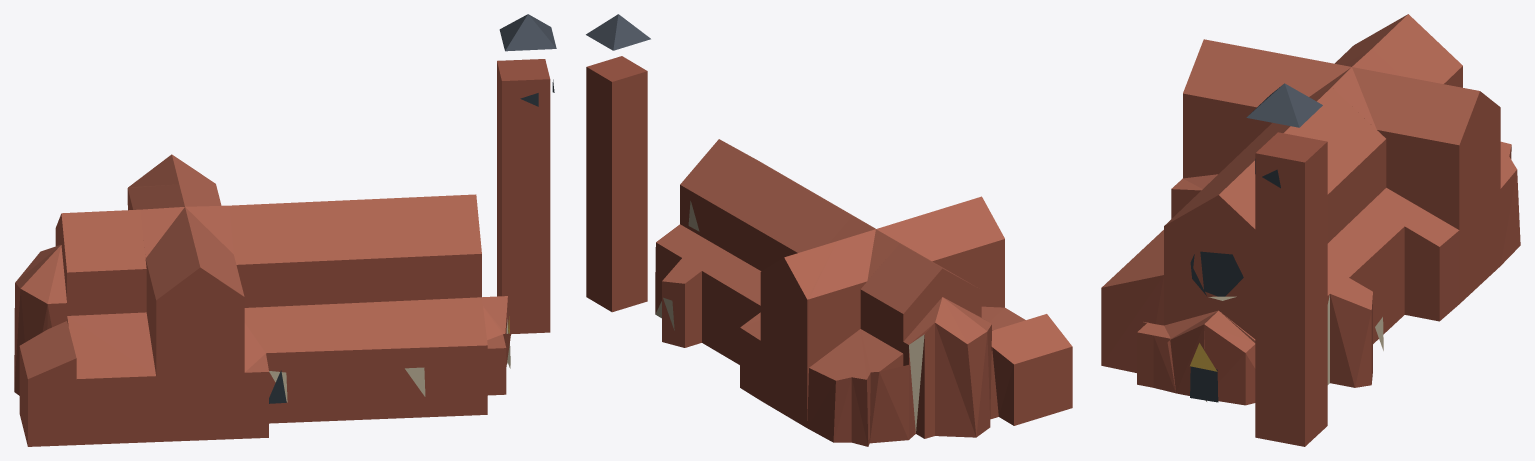
The model's file is sint-agneskerk.lod2.glb.
The picture shows the model from 3 angles, left to right: view 1: azimuth 30°, elevation 25°; view 2: azimuth 150°, elevation 25°; view 3: azimuth 270°, elevation 25°; orthographic projection. The views are drawn at different scales.
Parts seen in each view (by area): view 1: lod2; view 2: lod2; view 3: lod2.
Part boxes in pixels (bbox=[...]): lod2: bbox=[14, 14, 556, 446]; lod2: bbox=[586, 14, 1072, 446]; lod2: bbox=[1101, 14, 1520, 446].
Bounding box in the file's own units: 68.88 × 38.69 × 42.08.
